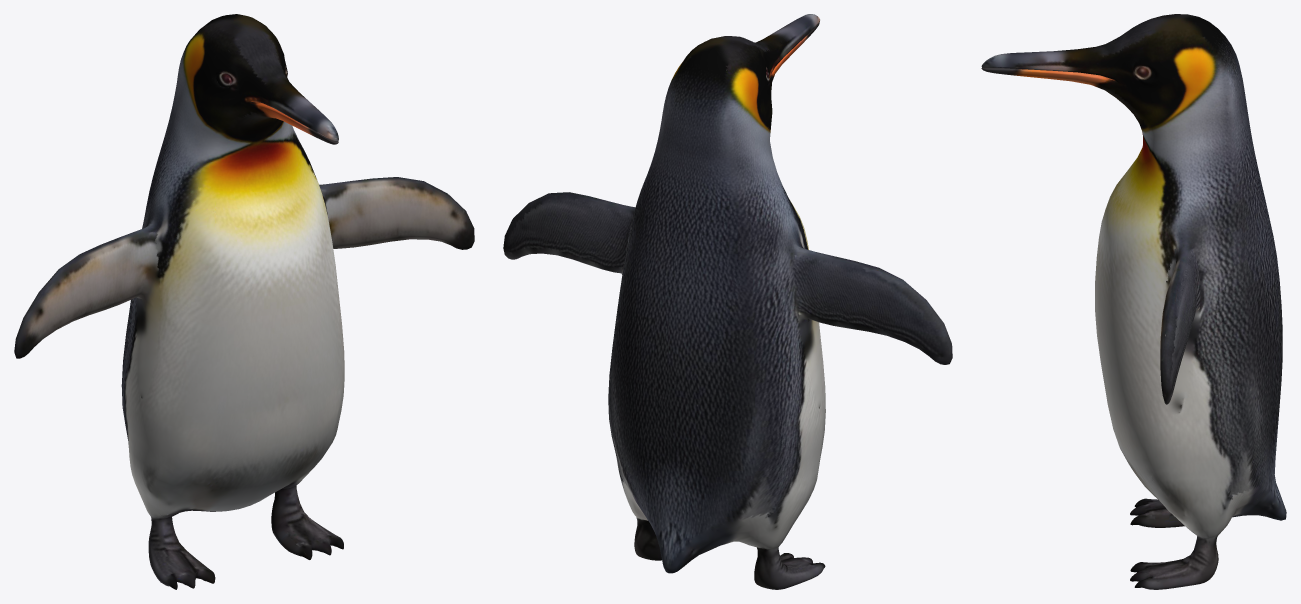
Rendered from penguin.glb.
3 views of the same model, side by side, from view 1: azimuth 30°, elevation 25°; view 2: azimuth 150°, elevation 25°; view 3: azimuth 270°, elevation 25° (orthographic). The views are drawn at different scales.
Visible parts, largest first — view 1: Cube.002; view 2: Cube.002; view 3: Cube.002.
Boxes of the visible parts, x1,y1,x2,y2 form: Cube.002: [14, 14, 474, 589]; Cube.002: [503, 14, 952, 589]; Cube.002: [981, 14, 1286, 589].
Size of the model in its own units: 0.9012 by 1 by 0.5219.
1 material, 1 textured.
